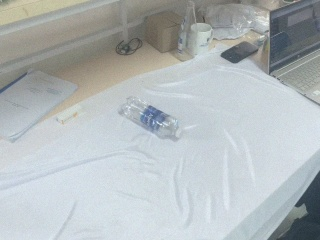bottle: (118, 96, 183, 139), (177, 1, 197, 57)
box: (145, 9, 182, 54)
cup: (189, 23, 214, 57)
phone: (220, 41, 259, 64)
